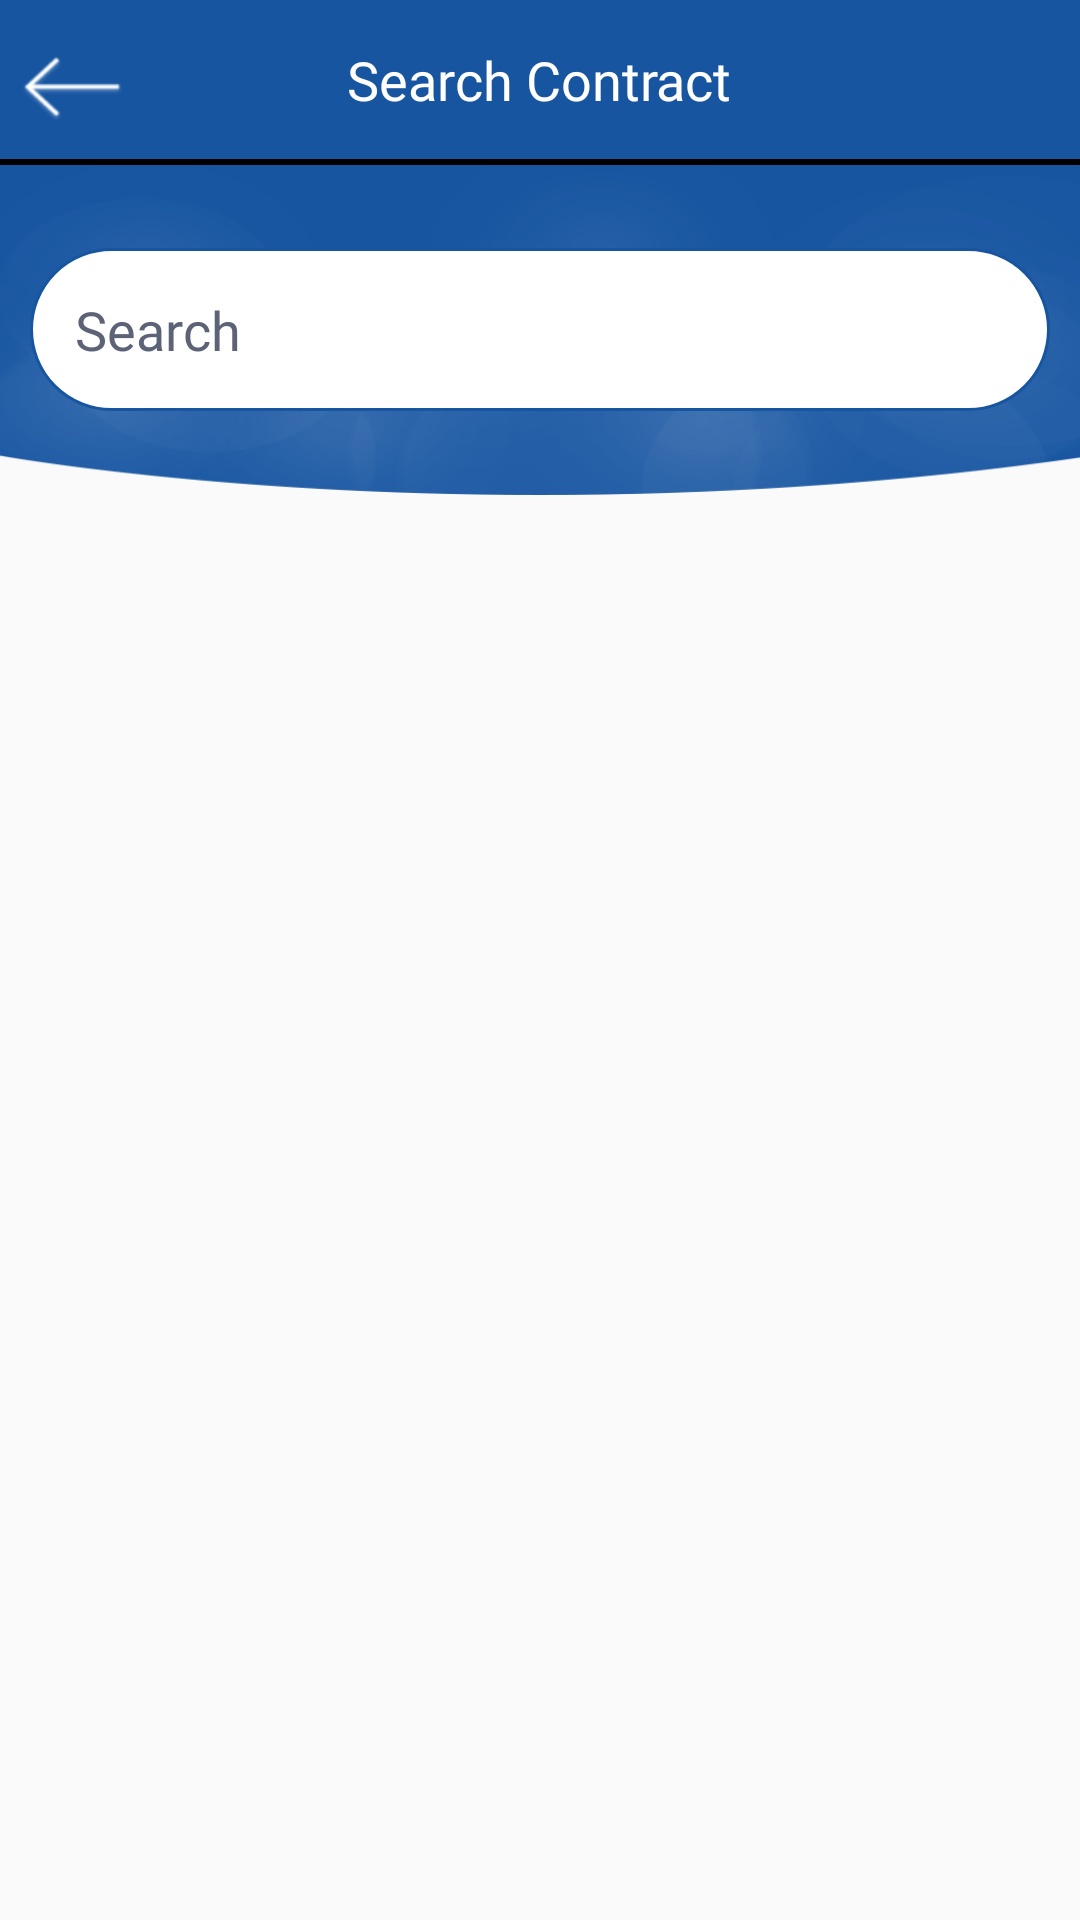

Icon bounding boxes for this 1080px×1920px phone screenshot, format (x1, y1, x2, y2):
back: (24, 57, 120, 118)
